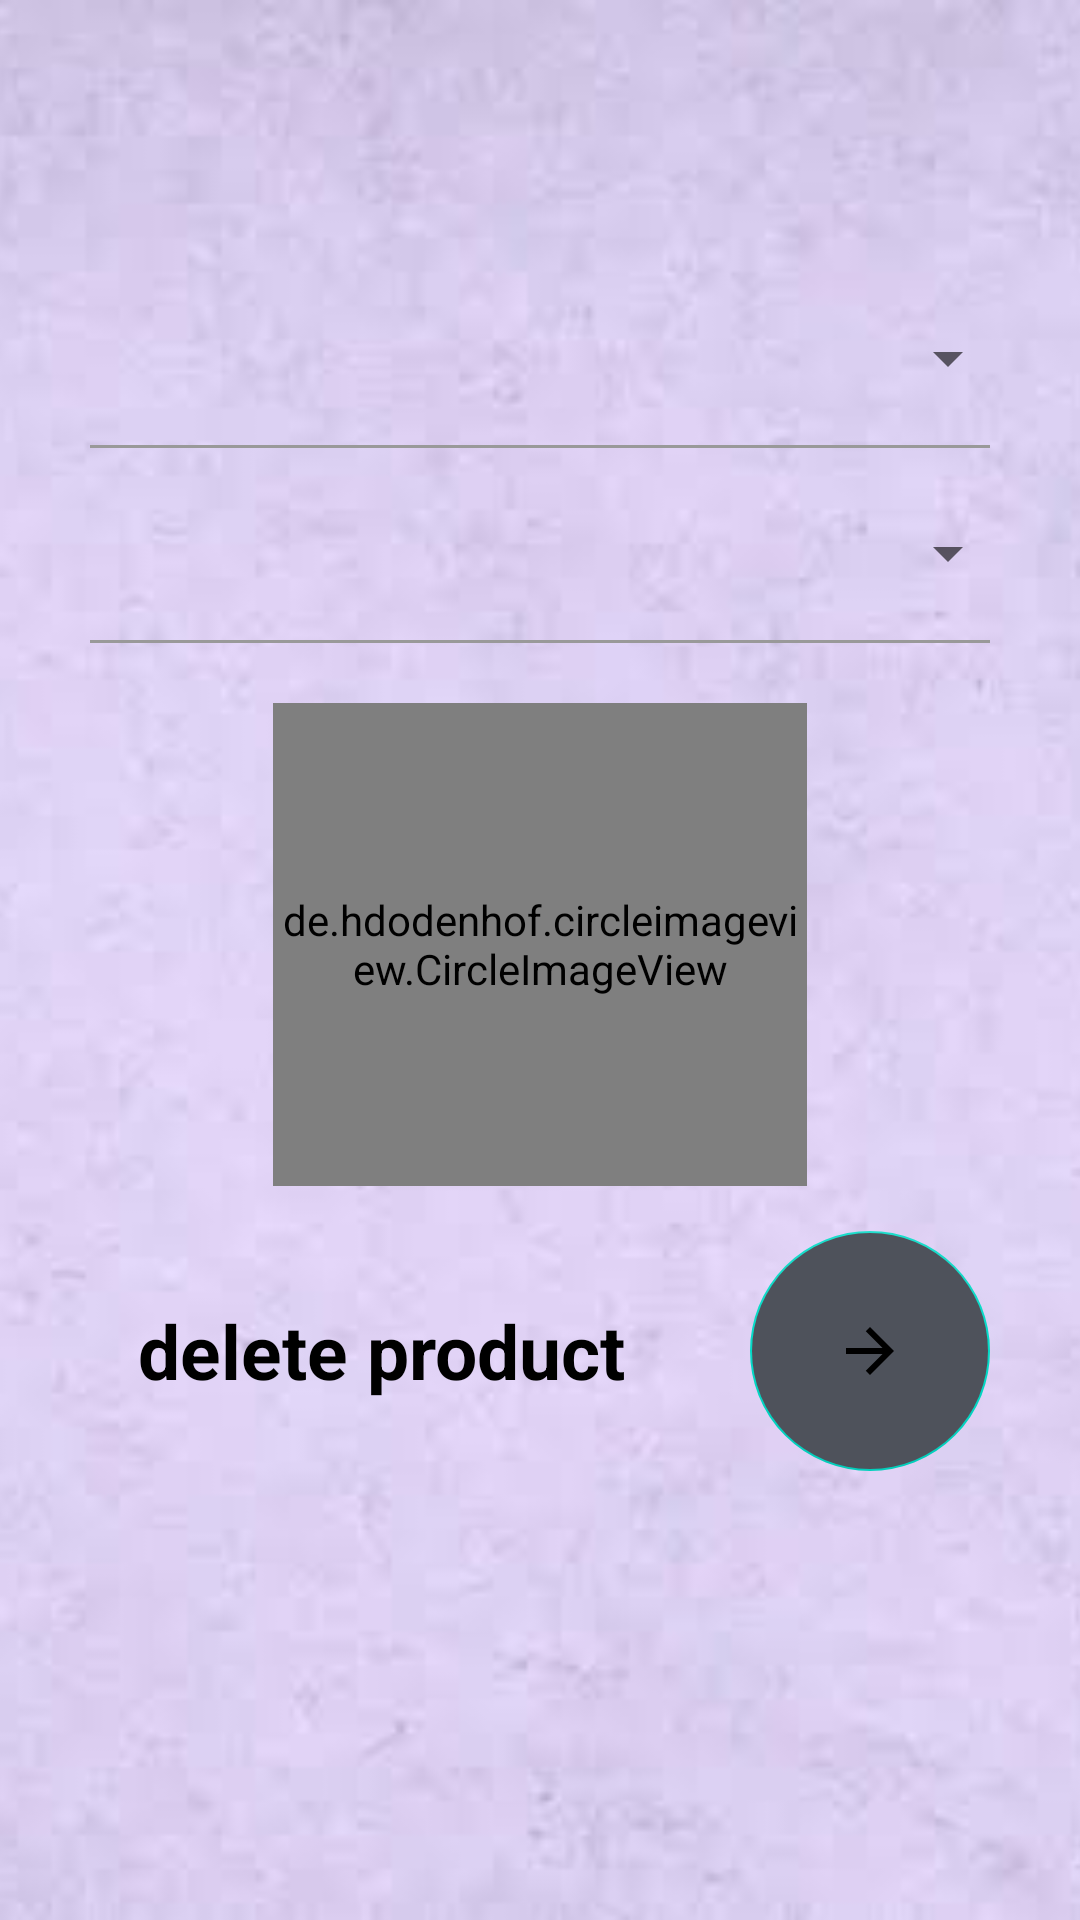

Where icons sit on this 1080px x 1920px app screen, as box(x1, y1, x2, y2):
arrow forward: box(750, 1231, 990, 1471)
